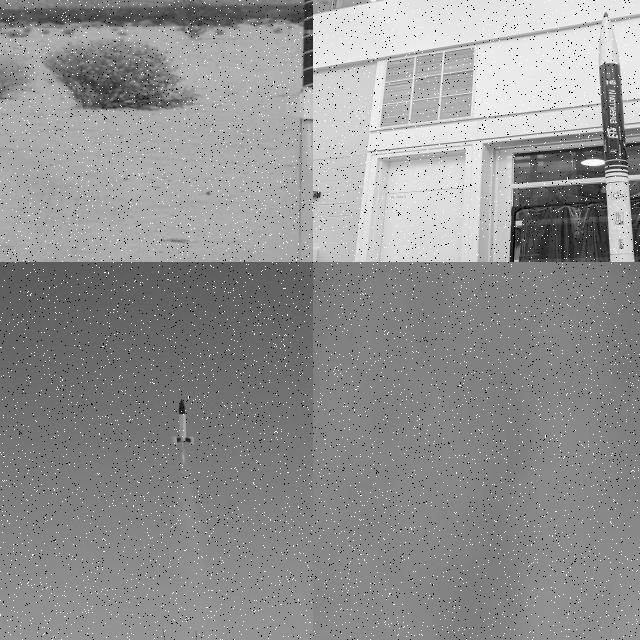Rocket: (598, 12, 635, 262), (286, 0, 313, 124), (172, 398, 194, 445)
